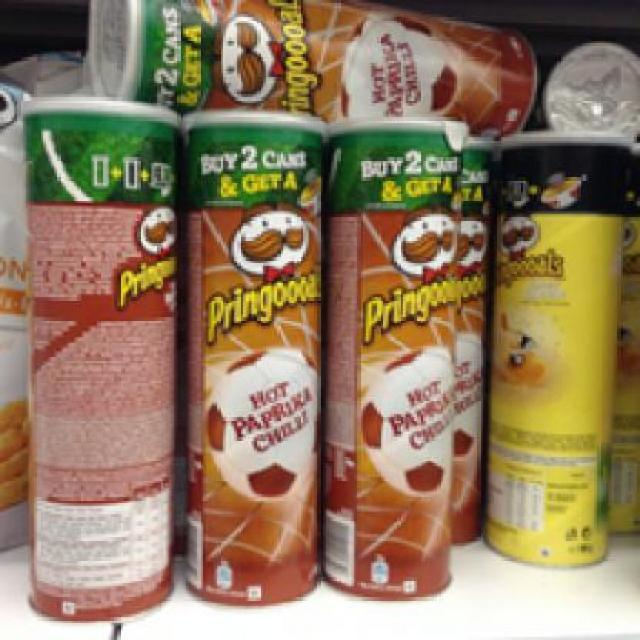Chips: (17, 91, 183, 623), (176, 106, 332, 609), (483, 132, 634, 572), (329, 109, 460, 600), (86, 1, 537, 130)
